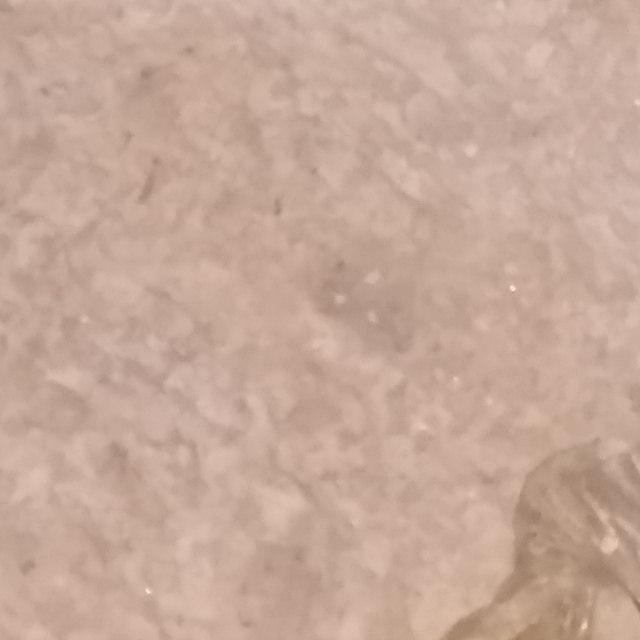plastic: (0, 392, 640, 640)
